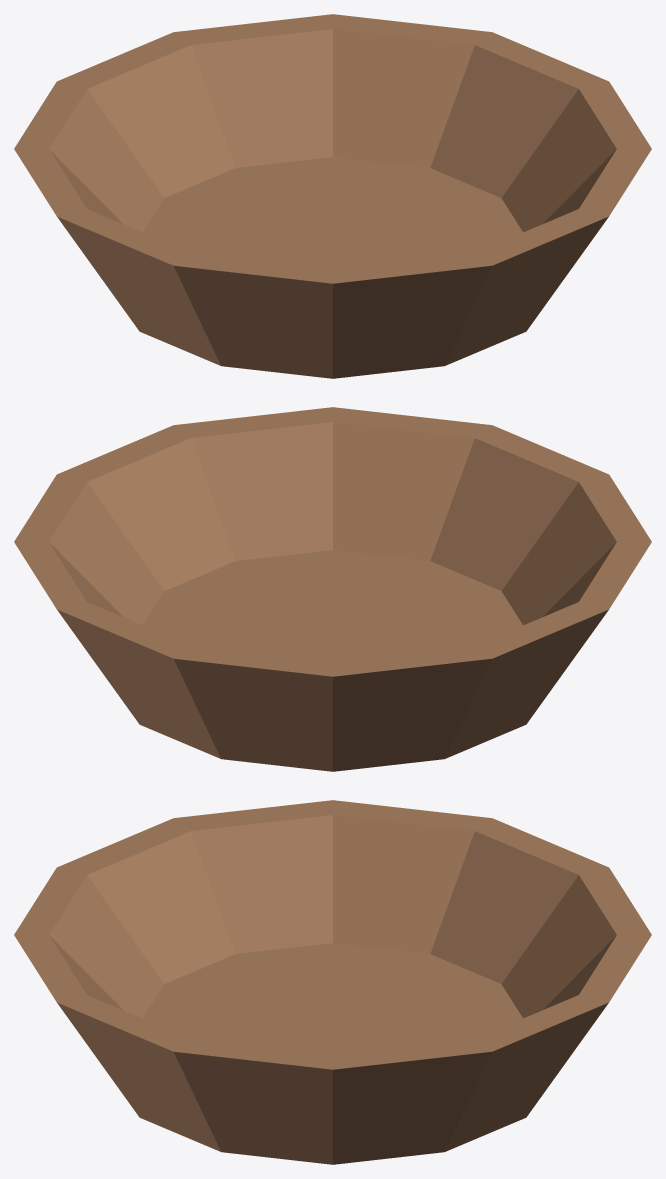
Rendered from bowl.glb.
3 renders of one model, top to bottom at view 1: azimuth 30°, elevation 25°; view 2: azimuth 150°, elevation 25°; view 3: azimuth 270°, elevation 25°, orthographic.
Visible parts, largest first — view 1: bowl; view 2: bowl; view 3: bowl.
Part boxes in pixels (bbox=[...]): bowl: bbox=[14, 14, 651, 378]; bowl: bbox=[14, 407, 651, 771]; bowl: bbox=[14, 800, 651, 1164].
Size of the model in its own units: 0.32 by 0.075 by 0.32.
